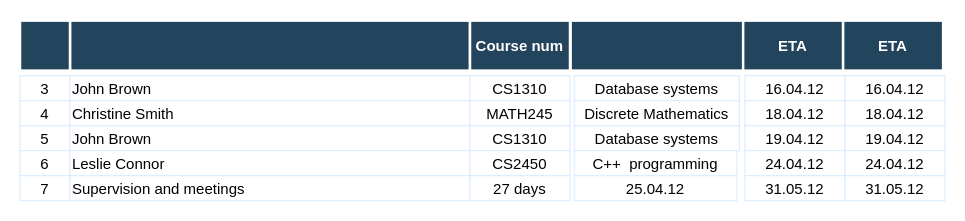
This 965x221 diagram has some shape labels left out. The centre of each missing label's shape, as x and y in pixels:
"Course name" belongs at point (659, 45).
"Student name" belongs at point (269, 45).
